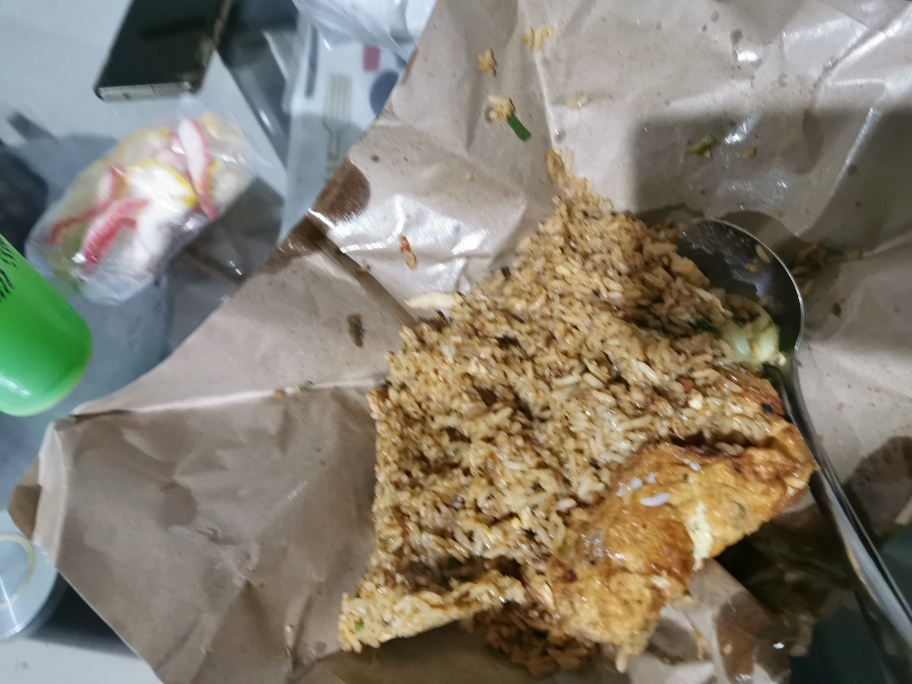nasi goreng: (335, 186, 813, 655)
